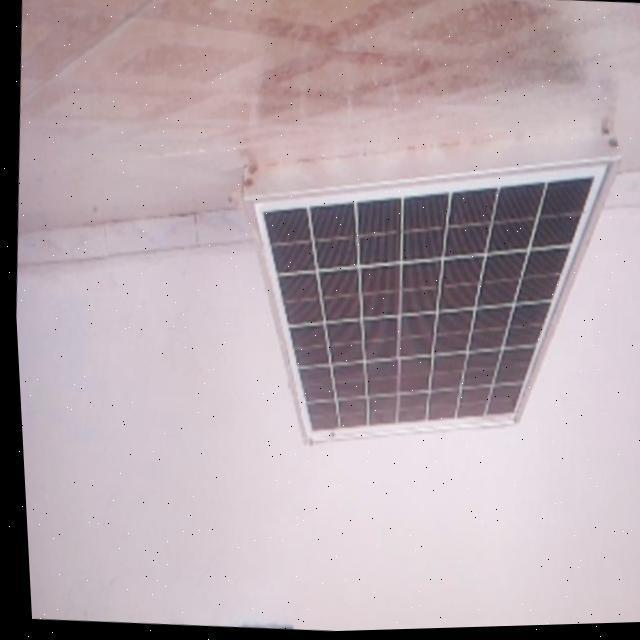Normal Solar Panel: (221, 103, 634, 468)
